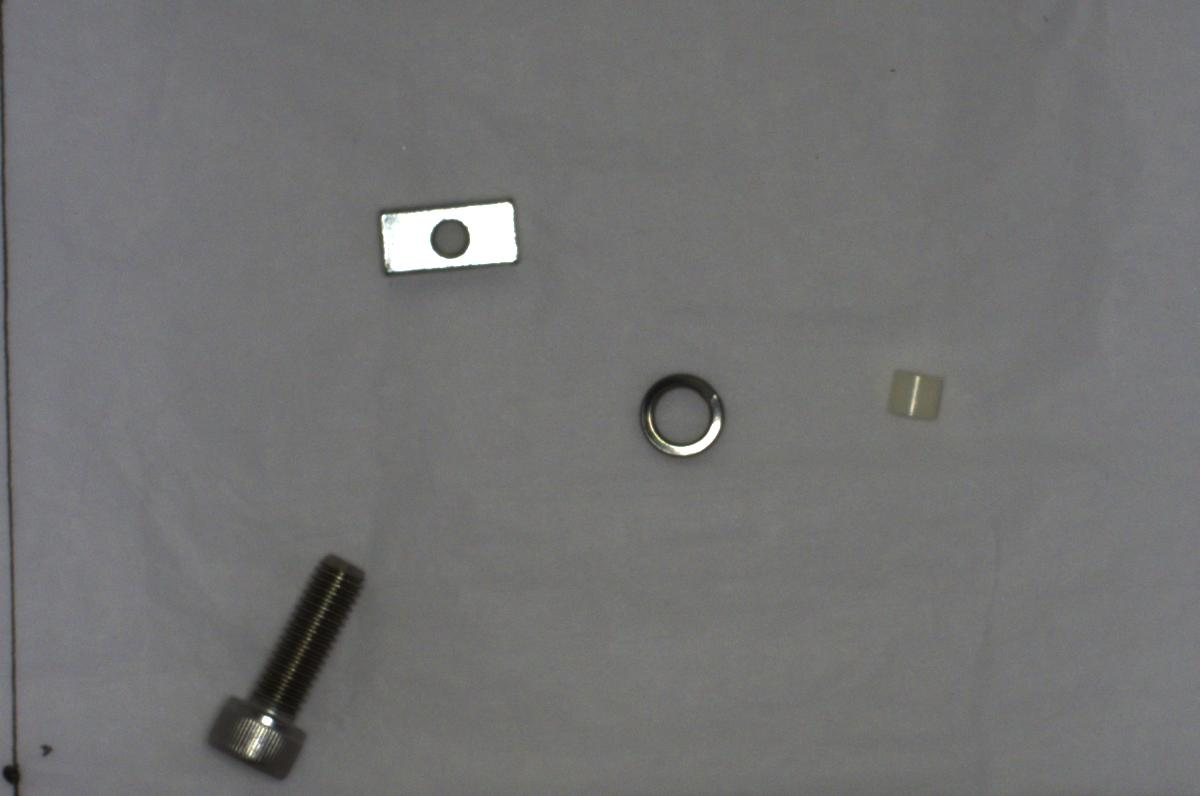Hexagon screw: (192, 542, 372, 783)
Plastic cushion pillar: (875, 358, 951, 427)
Rectangular nut: (364, 187, 533, 285)
Spring washer: (628, 362, 733, 466)
